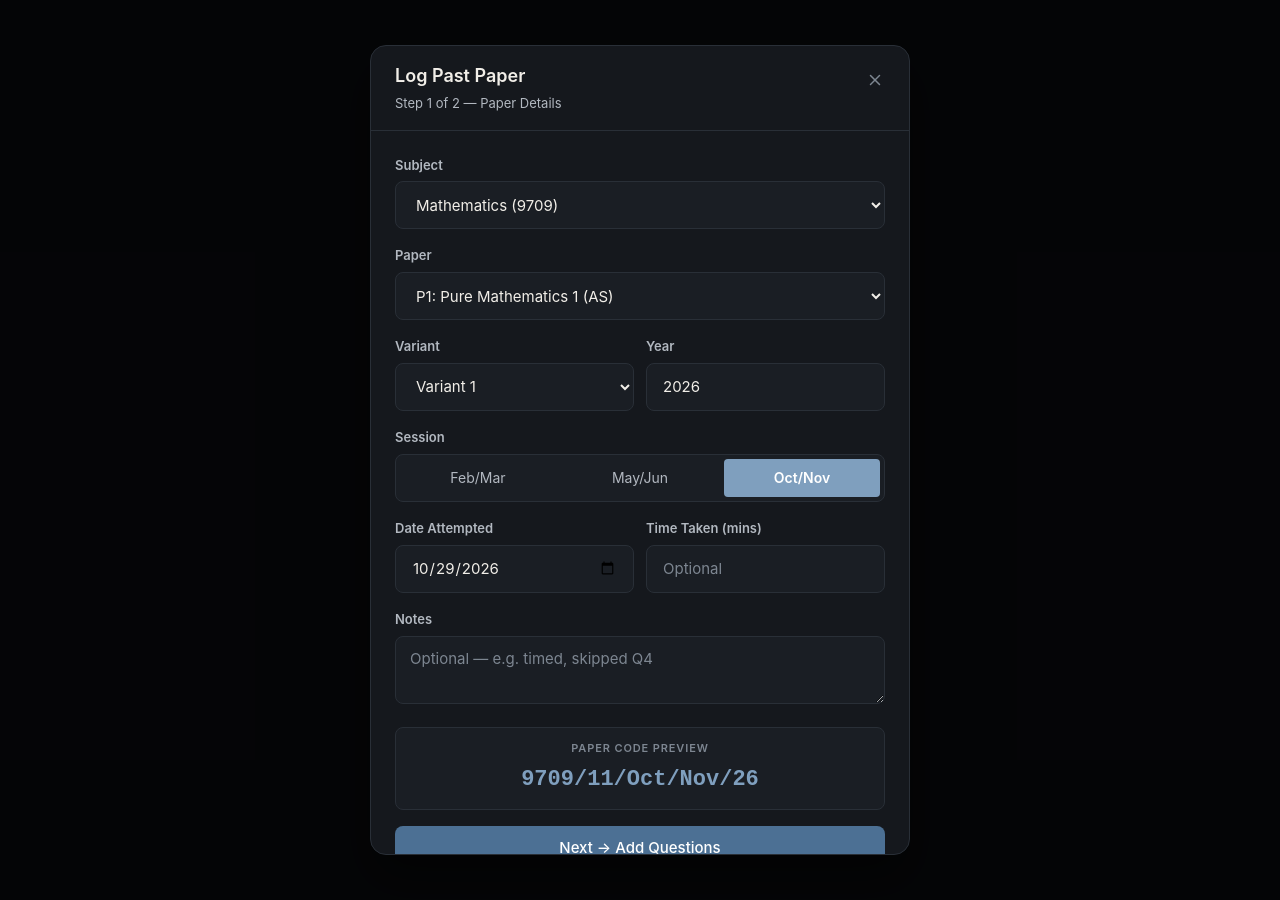
full-paper question marks (false = editing) › rejects maximum -1 without coercing or saving it
This screenshot has width=1280, height=900.
expect the button "Next → Add Questions" is enabled: met, box top-left (395, 826), bottom-right (885, 855)
Click the button "Next → Add Questions": (640, 848) top-left (395, 826), bottom-right (885, 870)
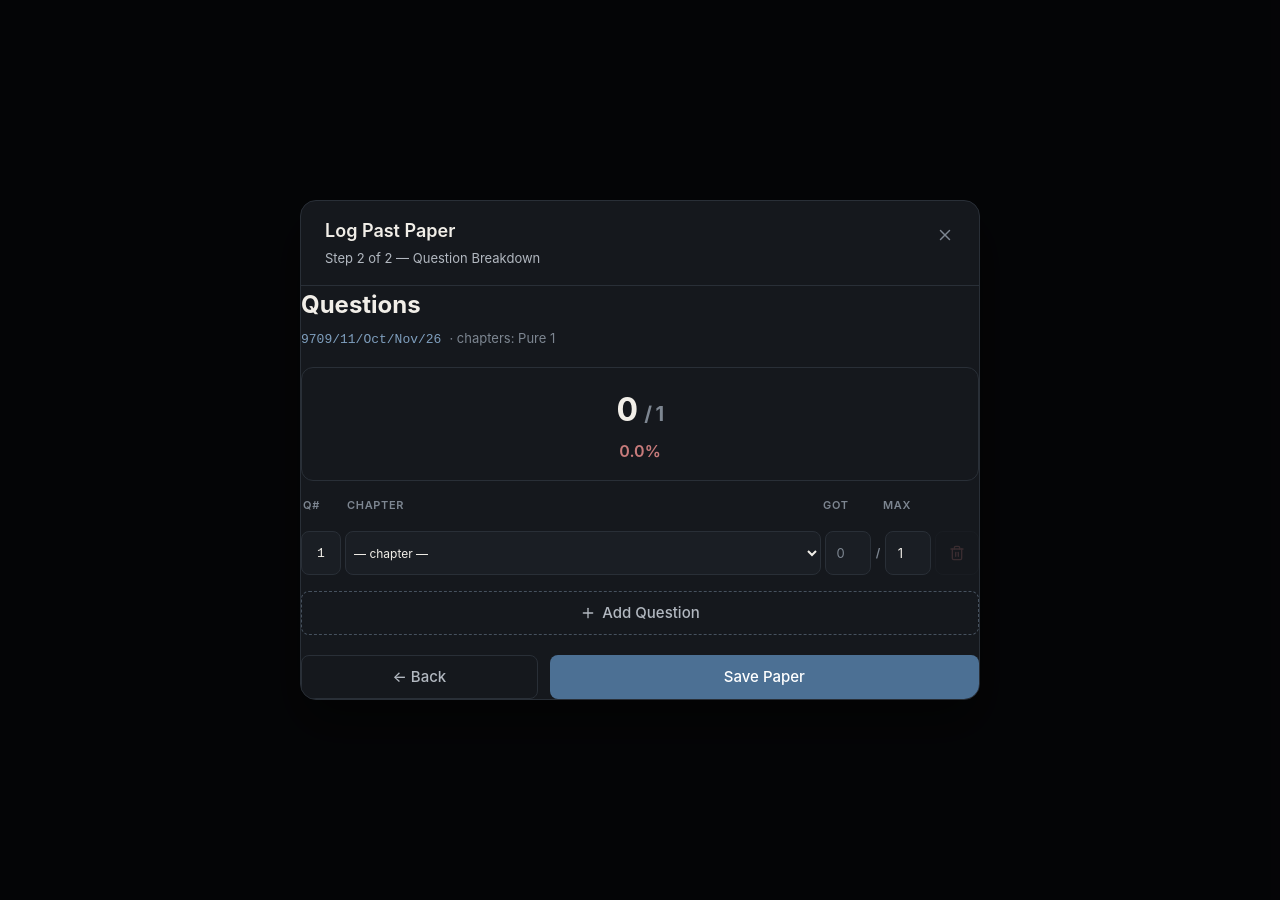
Replace the text in the number field named "Question 1 marks available" with "-1": (908, 553) top-left (885, 531), bottom-right (931, 575)
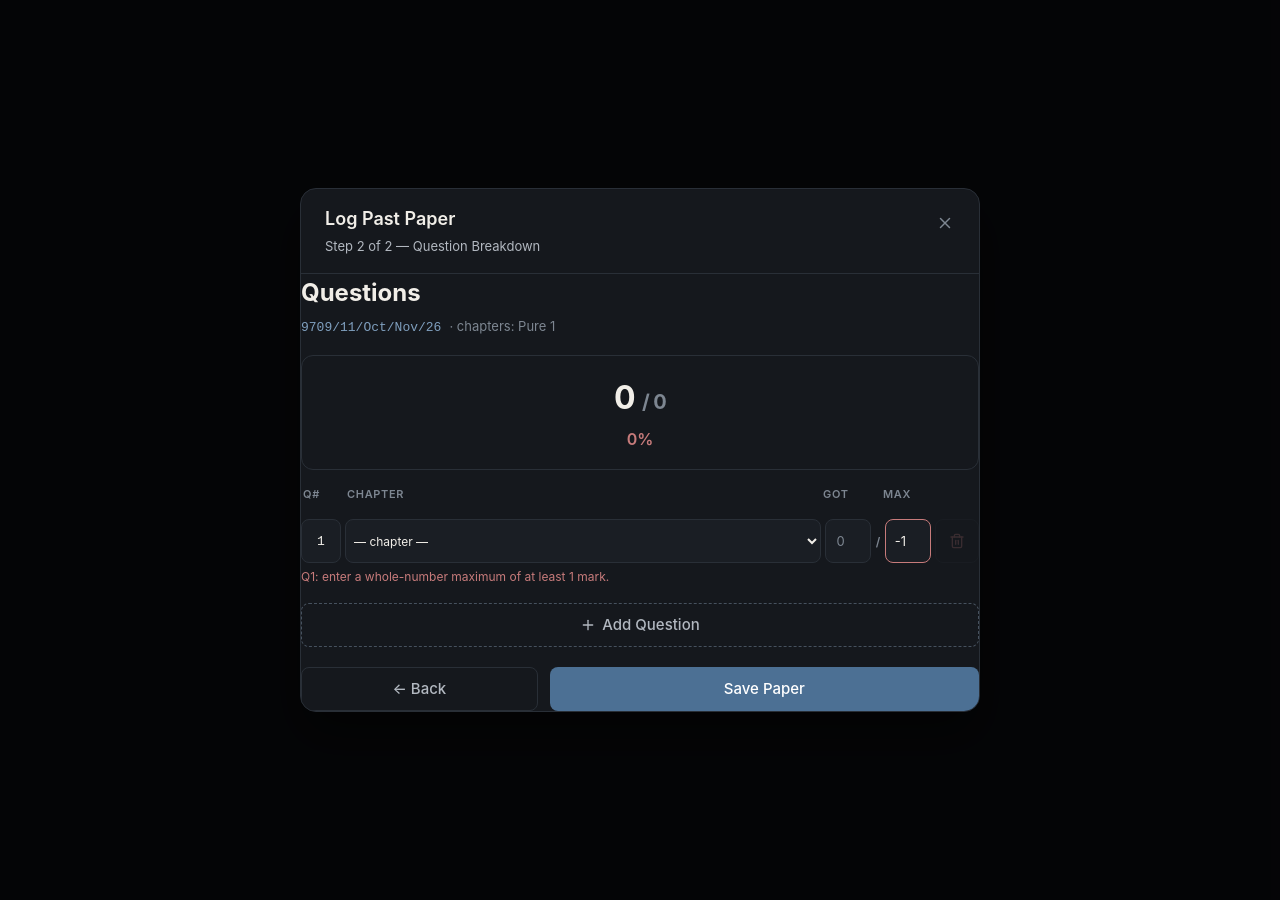
expect the number field named "Question 1 marks available" is marked as invalid: met, box top-left (885, 520), bottom-right (931, 564)
Click the button "Save Paper": (764, 689) top-left (550, 667), bottom-right (979, 711)
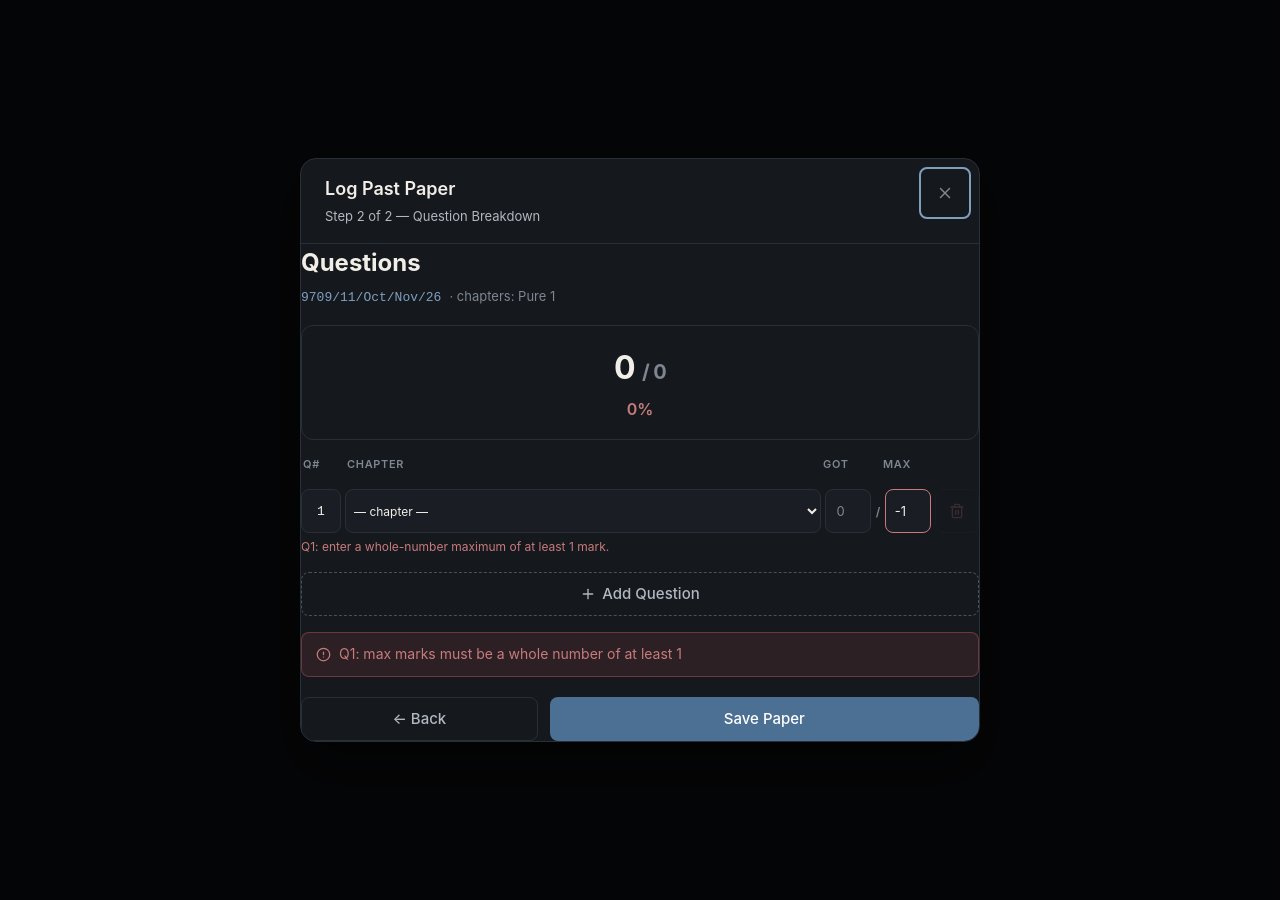
expect the message reads "Q1: max marks must be a whole number of at least 1": met, box top-left (339, 646), bottom-right (682, 662)
